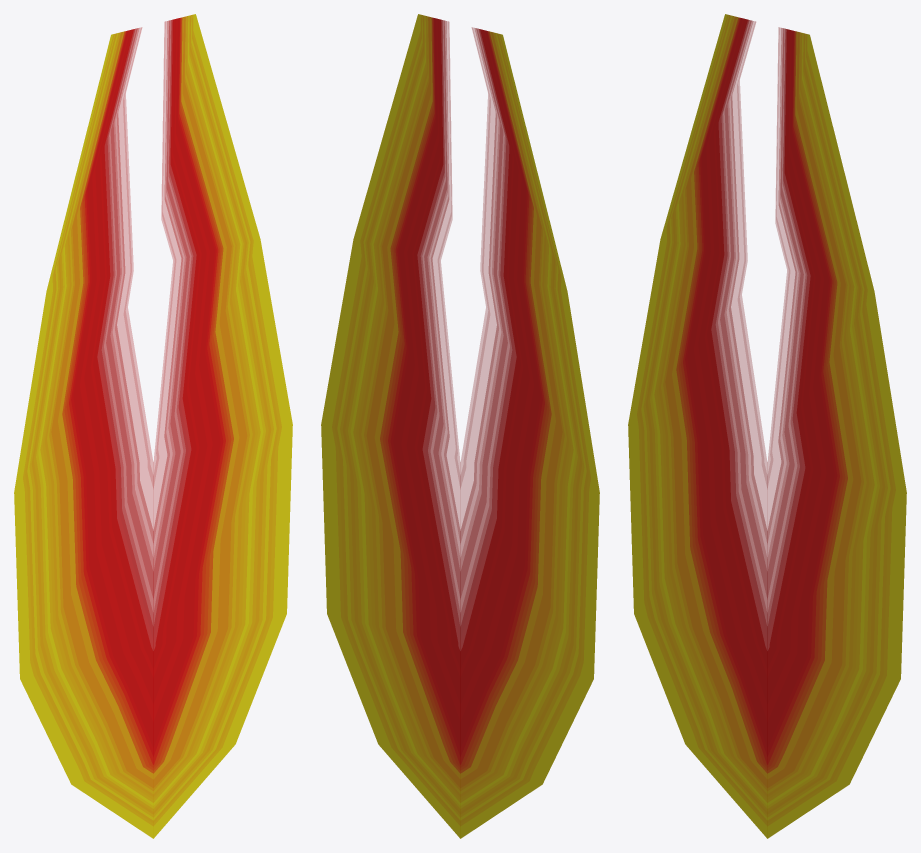
The model's file is koopa_course-mkd_ef_burner.glb.
3 renders of one model, left to right at view 1: azimuth 30°, elevation 25°; view 2: azimuth 150°, elevation 25°; view 3: azimuth 330°, elevation 25°, orthographic.
Parts seen in each view (by area): view 1: mkd_ef_burner; view 2: mkd_ef_burner; view 3: mkd_ef_burner.
Part boxes in pixels (x1=…): mkd_ef_burner: x1=14, y1=14, x2=292, y2=838; mkd_ef_burner: x1=321, y1=14, x2=599, y2=838; mkd_ef_burner: x1=628, y1=14, x2=906, y2=838.
Bounding box in the file's own units: 3.59 × 10.04 × 0.
1 material, 1 textured.
